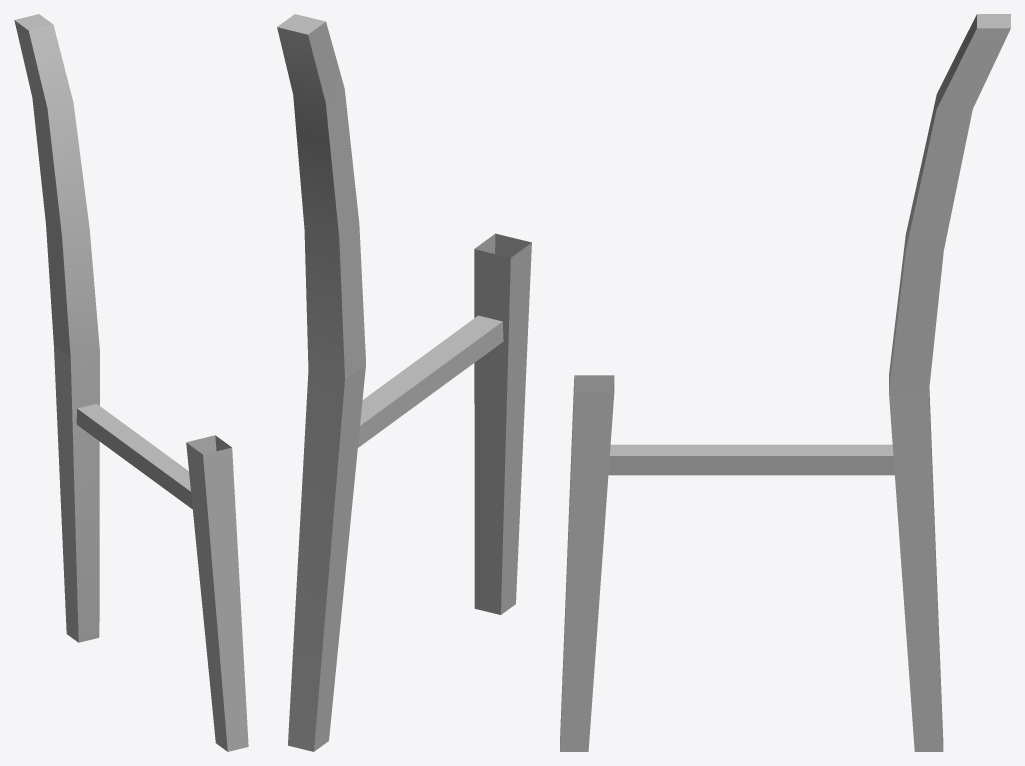
File: Itr_Chair3_Leg_Right_06.FBX
3 renders of one model, left to right at view 1: azimuth 30°, elevation 25°; view 2: azimuth 150°, elevation 25°; view 3: azimuth 270°, elevation 25°, orthographic. The views are drawn at different scales.
Visible parts, largest first — view 1: Itr_Chair3_Leg_Right_06; view 2: Itr_Chair3_Leg_Right_06; view 3: Itr_Chair3_Leg_Right_06.
Part boxes in pixels (x1=…): Itr_Chair3_Leg_Right_06: x1=14, y1=14, x2=248, y2=751; Itr_Chair3_Leg_Right_06: x1=277, y1=14, x2=531, y2=751; Itr_Chair3_Leg_Right_06: x1=560, y1=14, x2=1010, y2=751.
Size of the model in its own units: 3.08 by 39.55 by 22.7.
